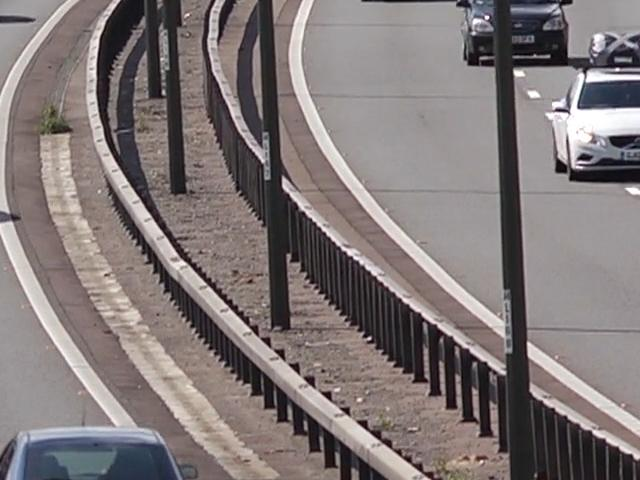car: (550, 29, 640, 181), (0, 426, 211, 480), (470, 0, 575, 66)
